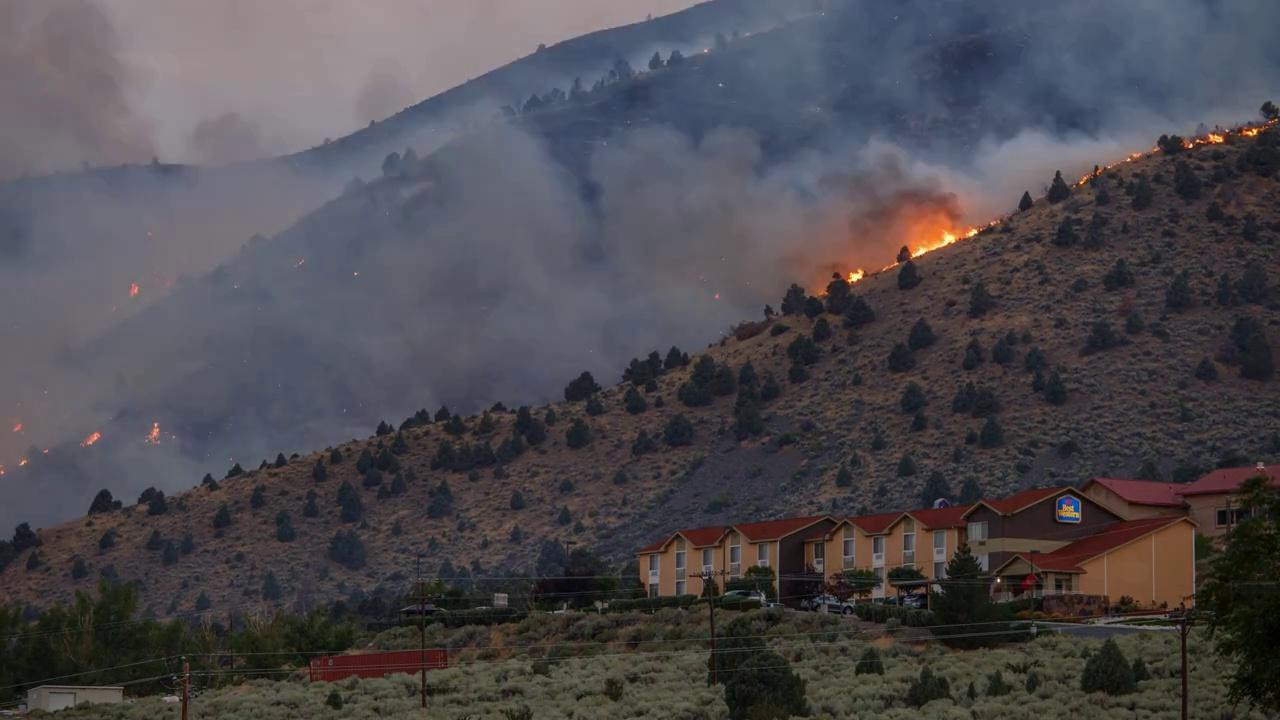fire: (914, 234, 976, 256)
smoke: (624, 174, 788, 298)
